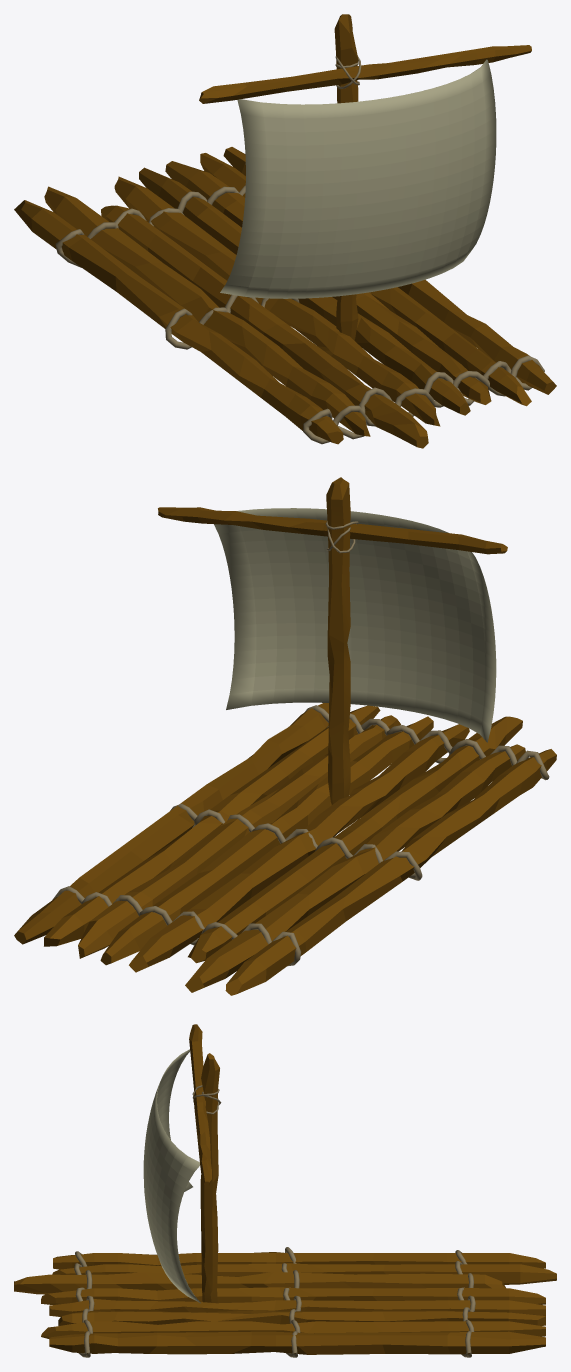
File: Raft-Seperated.fbx
3 renders of one model, top to bottom at view 1: azimuth 30°, elevation 25°; view 2: azimuth 150°, elevation 25°; view 3: azimuth 270°, elevation 25°, orthographic. The views are drawn at different scales.
Visible parts, largest first — view 1: Sail, Base.001, Base.002, Base.003, Base.004, Mast, Base.005, Base.007, Ropes, Base.006, Base.008; view 2: Sail, Mast, Base.001, Base.004, Base.002, Base.003, Base.005, Base.008, Base.007, Base.006, Ropes; view 3: Base.008, Base.003, Sail, Base.004, Base.006, Base.007, Base.005, Mast, Base.001, Base.002, Ropes.
Part boxes in pixels (<box>): Sail: <box>220,59,496,298</box>; Base.001: <box>14,200,343,444</box>; Base.002: <box>44,186,370,436</box>; Base.003: <box>101,205,428,448</box>; Base.004: <box>114,176,440,426</box>; Mast: <box>199,14,531,340</box>; Base.005: <box>139,167,470,415</box>; Base.007: <box>165,161,491,404</box>; Ropes: <box>55,185,544,444</box>; Base.006: <box>200,153,531,406</box>; Base.008: <box>223,147,556,394</box>; Sail: <box>214,508,496,742</box>; Mast: <box>158,477,507,804</box>; Base.001: <box>225,749,556,995</box>; Base.004: <box>129,724,469,972</box>; Base.002: <box>185,744,525,992</box>; Base.003: <box>188,716,522,963</box>; Base.005: <box>100,716,433,965</box>; Base.008: <box>14,703,328,944</box>; Base.007: <box>78,715,400,958</box>; Base.006: <box>44,705,380,946</box>; Ropes: <box>52,705,549,966</box>; Base.008: <box>49,1331,545,1354</box>; Base.003: <box>14,1272,505,1294</box>; Sail: <box>143,1049,200,1303</box>; Base.004: <box>41,1287,545,1304</box>; Base.006: <box>41,1321,545,1338</box>; Base.007: <box>58,1310,545,1325</box>; Base.005: <box>49,1299,545,1316</box>; Mast: <box>189,1024,221,1303</box>; Base.001: <box>53,1252,545,1269</box>; Base.002: <box>52,1263,556,1284</box>; Ropes: <box>74,1247,475,1357</box>.
Size of the model in its own units: 2669 by 2589 by 4780.
